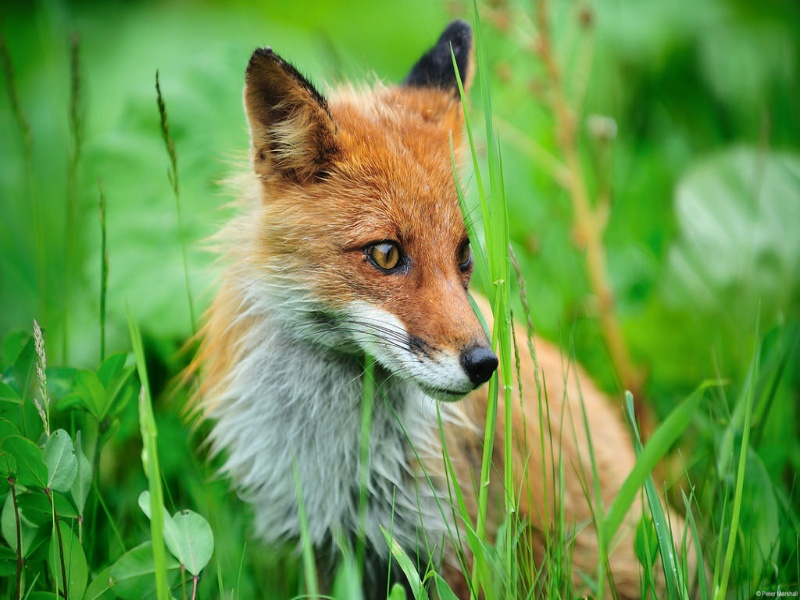fox: (178, 22, 717, 600)
